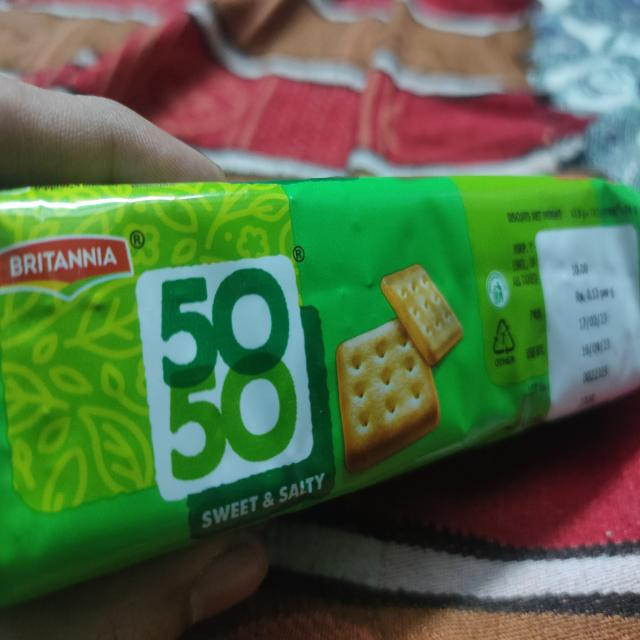50 50 biscuit: (0, 181, 640, 595)
